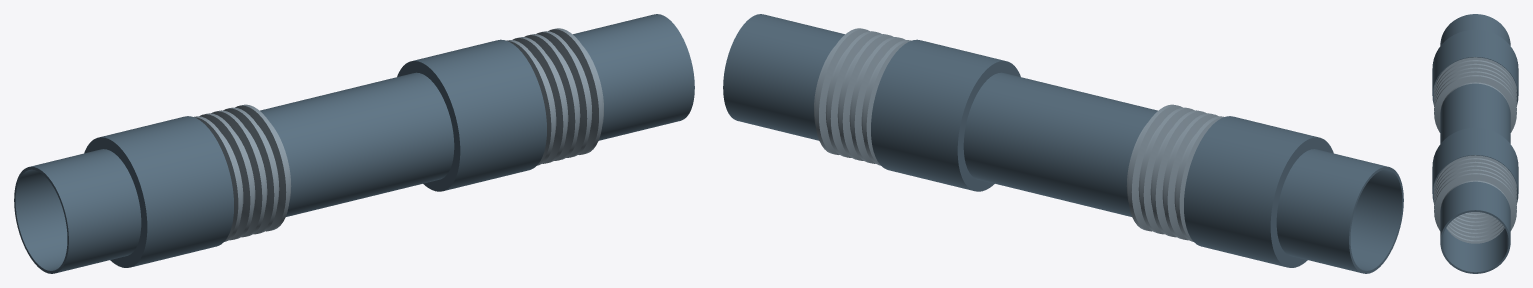
The model's file is 2silf-dn200-L1442-D219-k-o359.glb.
The picture shows the model from 3 angles, left to right: view 1: azimuth 30°, elevation 25°; view 2: azimuth 150°, elevation 25°; view 3: azimuth 270°, elevation 25°; orthographic projection. The views are drawn at different scales.
Visible parts, largest first — view 1: osnovanie_kozhuh_1, osnovanie_kozhuh_2, patrubok_1, patrubok_4, patrubok_2, patrubok_3, prokladka_silfon_1, prokladka_silfon_2; view 2: osnovanie_kozhuh_1, osnovanie_kozhuh_2, patrubok_1, patrubok_4, patrubok_2, patrubok_3, prokladka_silfon_1, prokladka_silfon_2; view 3: patrubok_4, prokladka_silfon_2, prokladka_silfon_1, osnovanie_kozhuh_1, osnovanie_kozhuh_2, patrubok_2, patrubok_3, patrubok_1.
Boxes of the visible parts, left/top/right/bottom form: osnovanie_kozhuh_1: left=84, top=116, right=233, bottom=267; osnovanie_kozhuh_2: left=397, top=39, right=546, bottom=191; patrubok_1: left=14, top=149, right=141, bottom=273; patrubok_4: left=573, top=14, right=694, bottom=140; patrubok_2: left=260, top=90, right=381, bottom=216; patrubok_3: left=342, top=72, right=454, bottom=196; prokladka_silfon_1: left=194, top=104, right=291, bottom=241; prokladka_silfon_2: left=506, top=28, right=603, bottom=165; osnovanie_kozhuh_1: left=1184, top=116, right=1333, bottom=267; osnovanie_kozhuh_2: left=871, top=39, right=1020, bottom=191; patrubok_1: left=1276, top=149, right=1403, bottom=273; patrubok_4: left=723, top=14, right=844, bottom=140; patrubok_2: left=1036, top=90, right=1157, bottom=216; patrubok_3: left=963, top=72, right=1075, bottom=196; prokladka_silfon_1: left=1126, top=104, right=1223, bottom=241; prokladka_silfon_2: left=814, top=28, right=911, bottom=165; patrubok_4: left=1440, top=181, right=1510, bottom=273; prokladka_silfon_2: left=1434, top=155, right=1516, bottom=243; prokladka_silfon_1: left=1434, top=57, right=1516, bottom=132; osnovanie_kozhuh_1: left=1432, top=29, right=1518, bottom=104; osnovanie_kozhuh_2: left=1432, top=127, right=1518, bottom=202; patrubok_2: left=1440, top=83, right=1510, bottom=140; patrubok_3: left=1440, top=112, right=1510, bottom=143; patrubok_1: left=1440, top=14, right=1510, bottom=45.
Bounding box in the file's own units: 1442 × 267 × 267.
